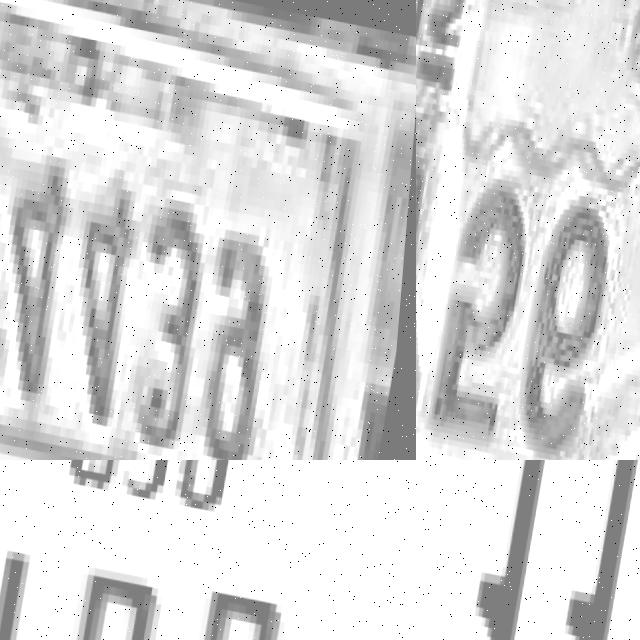license-plate: (0, 0, 416, 460), (416, 0, 640, 460), (0, 460, 416, 640), (416, 460, 640, 640)
